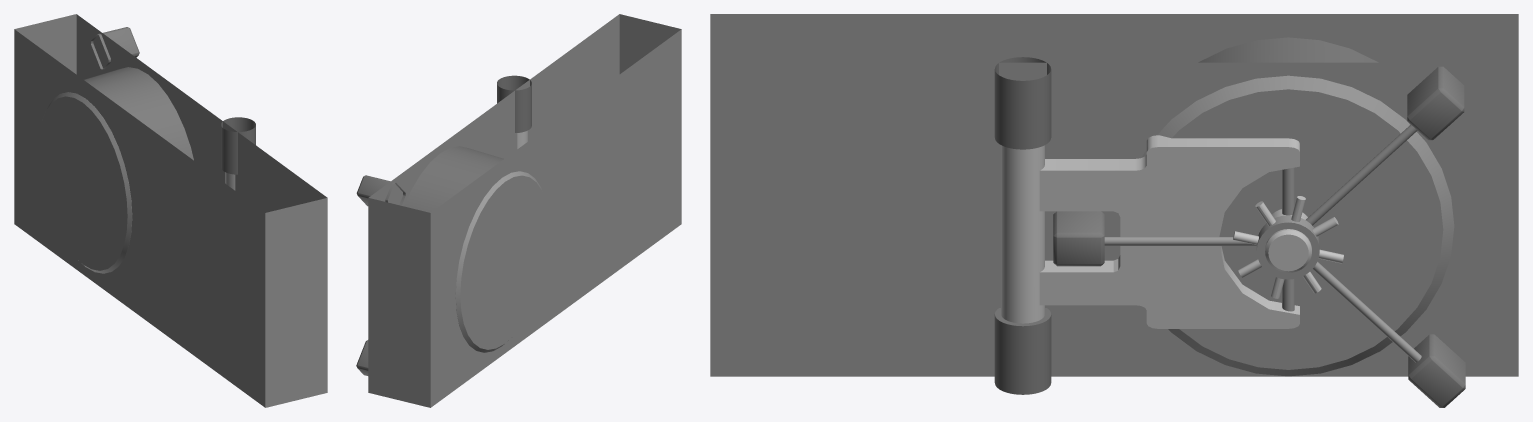
File: vaultdoor-4.fbx
3 views of the same model, side by side, from view 1: azimuth 30°, elevation 25°; view 2: azimuth 150°, elevation 25°; view 3: azimuth 270°, elevation 25° (orthographic). The views are drawn at different scales.
Parts seen in each view (by area): view 1: Cube, Cylinder; view 2: Cube, Cylinder; view 3: Cube, Cylinder, Cylinder.003, pole-1, pole-2, pole-3.
Boxes of the visible parts, <box> form: Cube: <box>14,14,327,407</box>; Cylinder: <box>38,92,235,273</box>; Cube: <box>356,14,681,407</box>; Cylinder: <box>455,130,549,352</box>; Cube: <box>710,14,1518,407</box>; Cylinder: <box>1001,75,1454,376</box>; Cylinder.003: <box>1233,196,1343,298</box>; pole-1: <box>1306,124,1417,225</box>; pole-2: <box>1312,261,1421,362</box>; pole-3: <box>1104,237,1256,245</box>.
Bounding box in the file's own units: 160 × 309 × 700.
